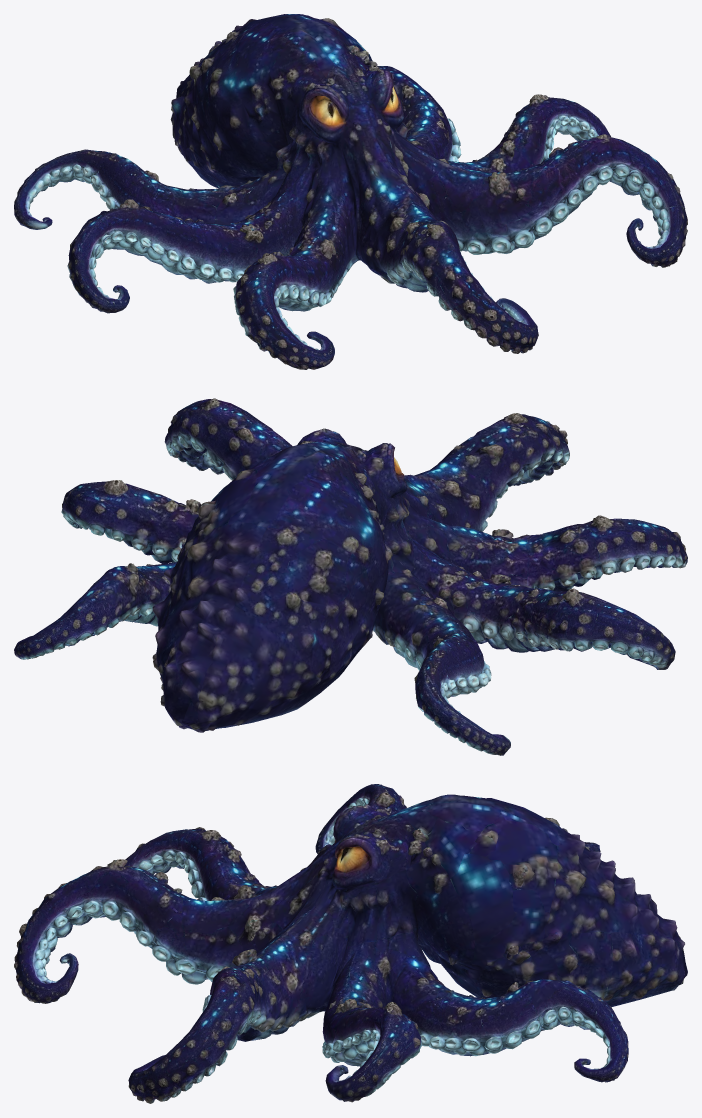
The model's file is octopus.glb.
3 renders of one model, top to bottom at view 1: azimuth 30°, elevation 25°; view 2: azimuth 150°, elevation 25°; view 3: azimuth 270°, elevation 25°, orthographic. The views are drawn at different scales.
Bounding box in the file's own units: 1.87 × 0.6018 × 1.9.
Materials: 1 (1 with a texture image).
